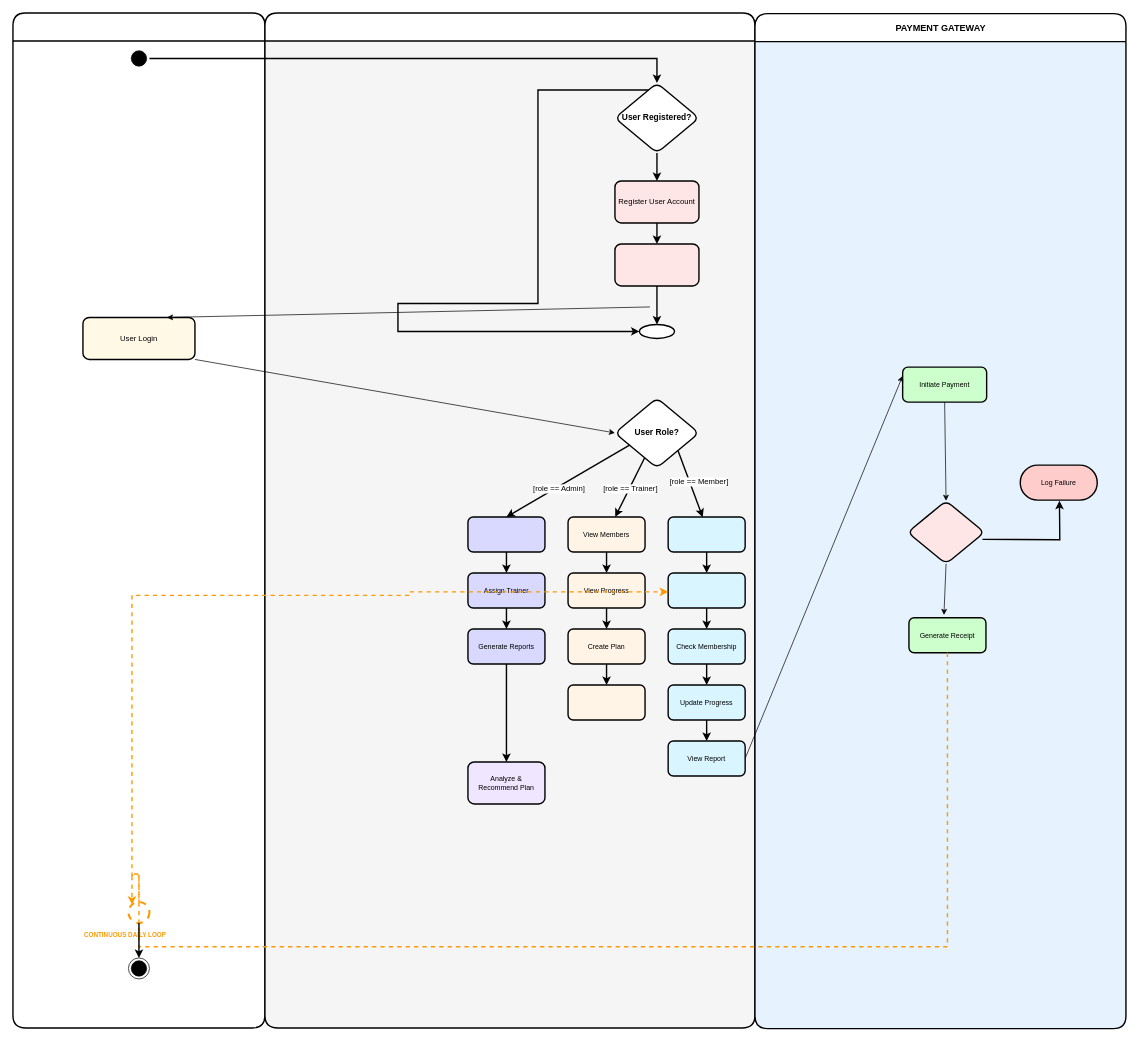
This 1138x1041 diagram has some shape labels left out. The shapes that lost their labels are listed below. From the top down, each one's box as (x1, y1, x2, y2) in pixels, then its label:
(614, 243, 699, 286): Save User Data
(12, 12, 265, 1028): USER INTERACTIONS
(467, 516, 545, 552): Manage Members
(264, 12, 755, 1028): SYSTEM PROCESSING
(667, 516, 746, 552): View Workout
(906, 500, 985, 564): Payment Success?
(667, 572, 746, 608): Mark Attendance
(567, 684, 645, 720): Assign Exercises
